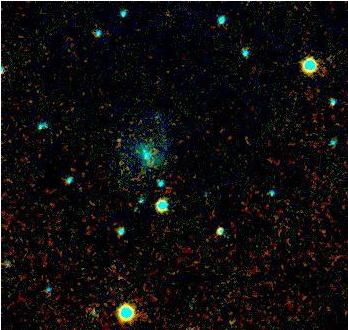star: (102, 125, 132, 155)
